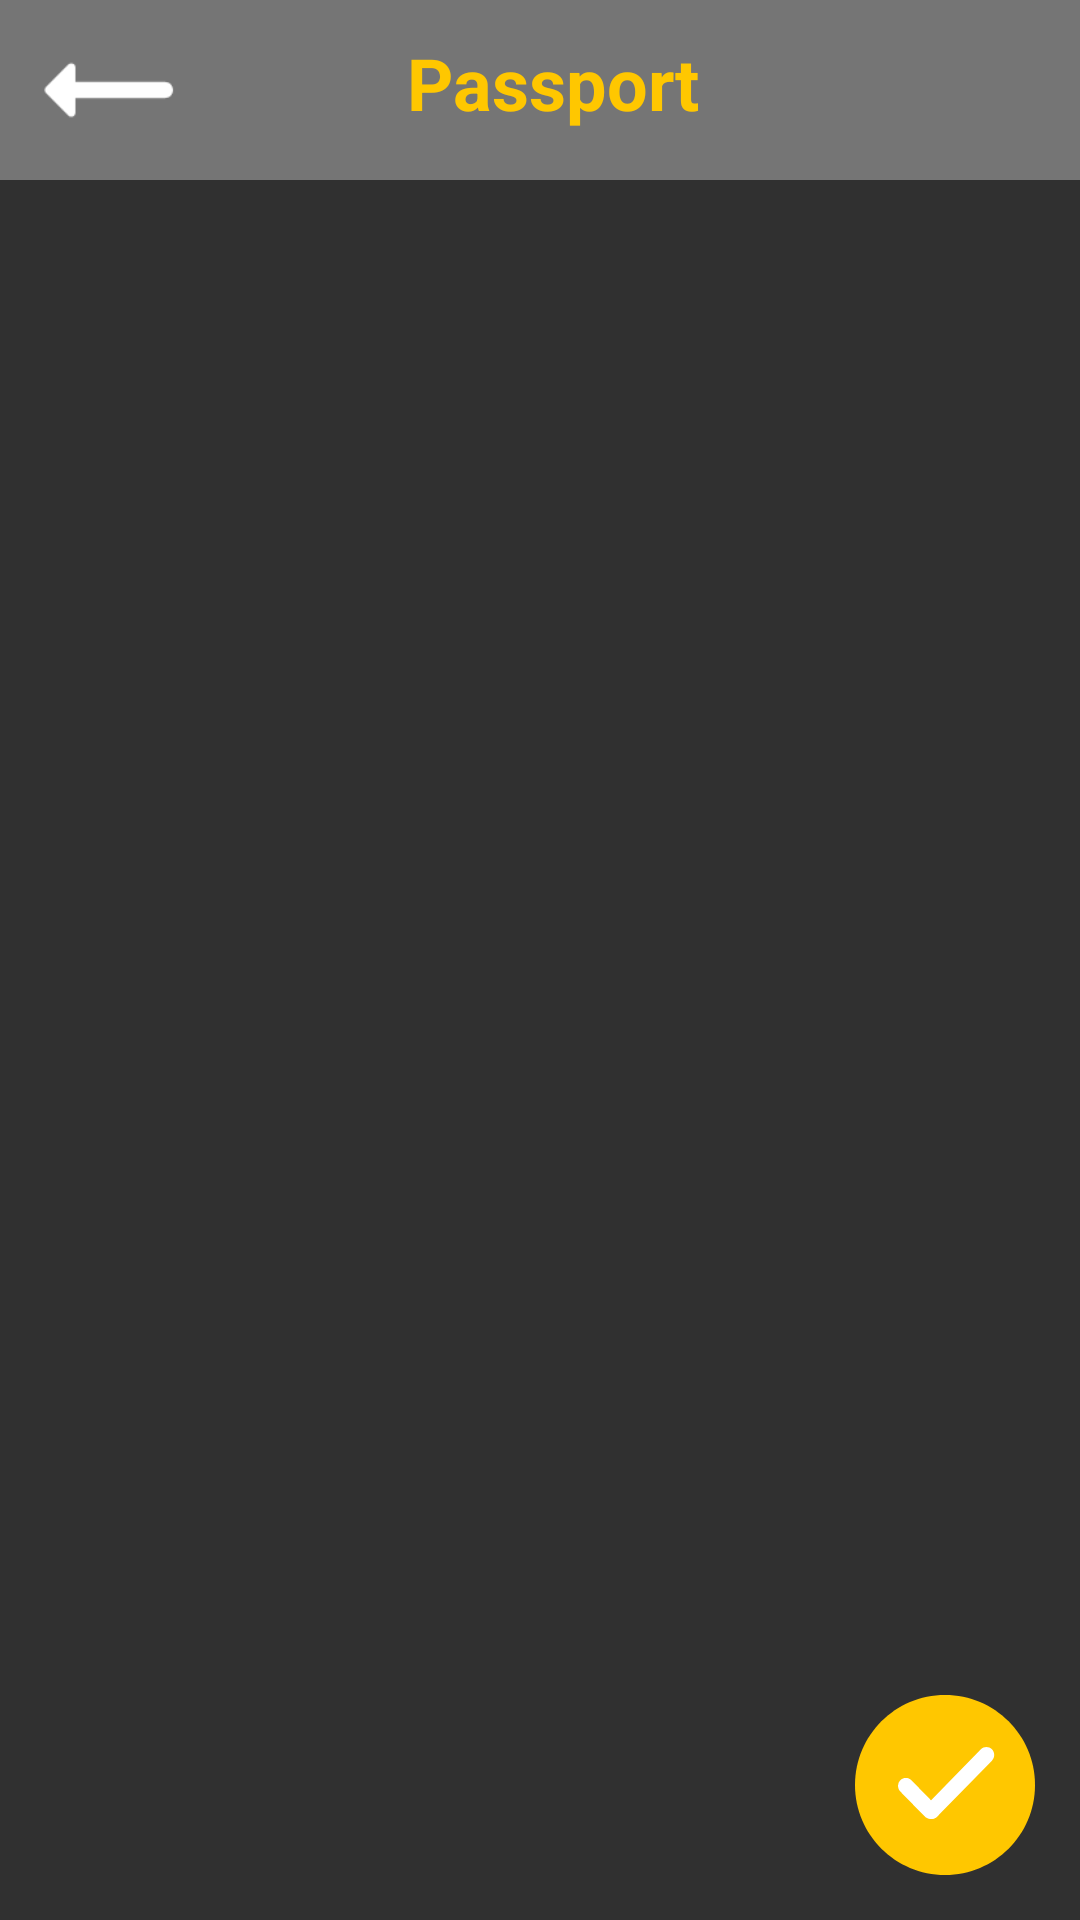

Named icons in this screenshot (1080×1920) and their centers, (x,y):
check: (945,1785)
